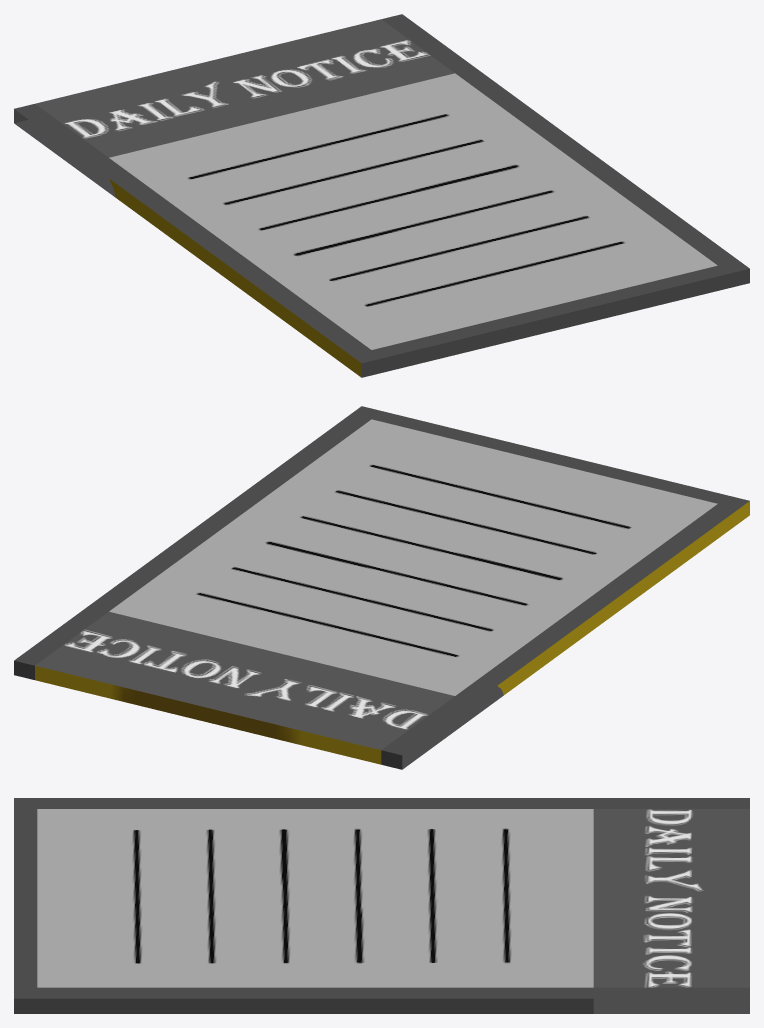
Rendered from Dailynotice.fbx.
The picture shows the model from 3 angles, top to bottom: view 1: azimuth 30°, elevation 25°; view 2: azimuth 150°, elevation 25°; view 3: azimuth 270°, elevation 25°; orthographic projection. The views are drawn at different scales.
Parts seen in each view (by area): view 1: pCube1; view 2: pCube1; view 3: pCube1.
Boxes of the visible parts, x1,y1,x2,y2 form: pCube1: (14,14,749,377); pCube1: (14,406,749,769); pCube1: (14,798,749,1013).
Size of the model in its own units: 0.9838 by 0.0352 by 1.53.
4 materials, 3 textured.
